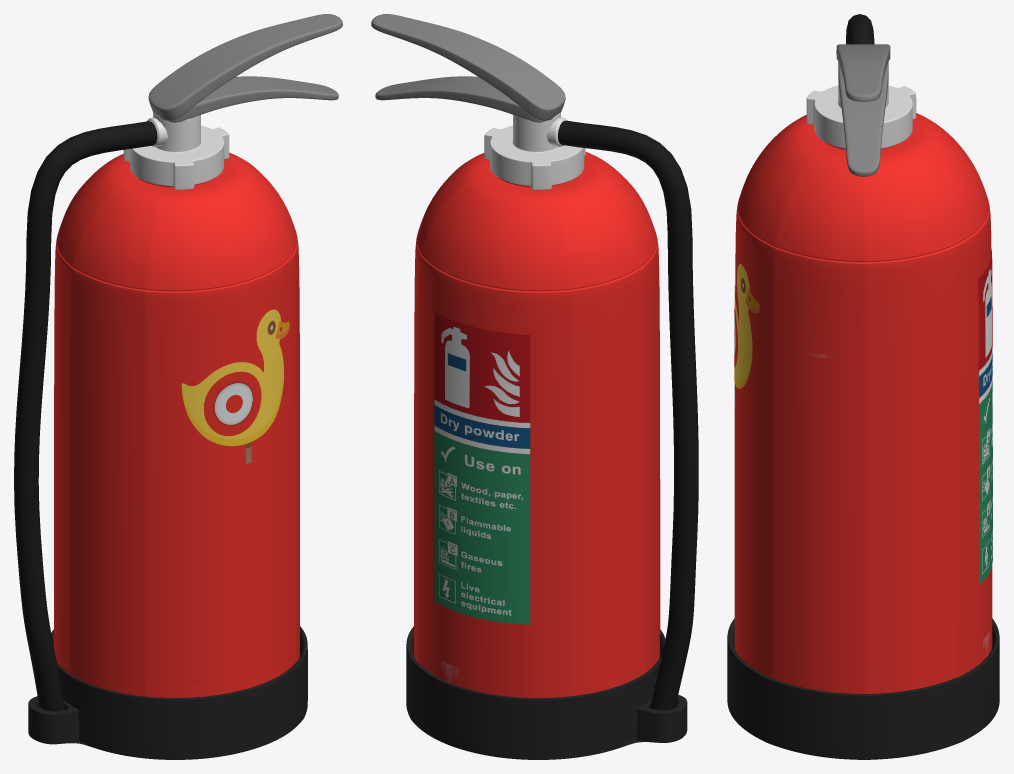
File: FireExtinguisher.fbx
3 views of the same model, side by side, from view 1: azimuth 30°, elevation 25°; view 2: azimuth 150°, elevation 25°; view 3: azimuth 270°, elevation 25° (orthographic). The views are drawn at different scales.
Parts seen in each view (by area): view 1: FireExtinguisher, ExtinguisherPipe, WHATTHEDUCK; view 2: FireExtinguisher, Dry-powder-fire-extinguisher-label-TSC3044F, ExtinguisherPipe; view 3: FireExtinguisher, Dry-powder-fire-extinguisher-label-TSC3044F, WHATTHEDUCK, ExtinguisherPipe.
Part boxes in pixels (x1,y1,x2,y2): FireExtinguisher: (28,14,342,759); ExtinguisherPipe: (14,117,167,711); WHATTHEDUCK: (181,309,289,463); FireExtinguisher: (371,14,687,759); Dry-powder-fire-extinguisher-label-TSC3044F: (434,312,530,624); ExtinguisherPipe: (546,117,698,710); FireExtinguisher: (727,44,999,759); Dry-powder-fire-extinguisher-label-TSC3044F: (978,249,992,584); WHATTHEDUCK: (734,264,759,405); ExtinguisherPipe: (846,14,874,44).
Size of the model in its own units: 52.48 by 100 by 36.
